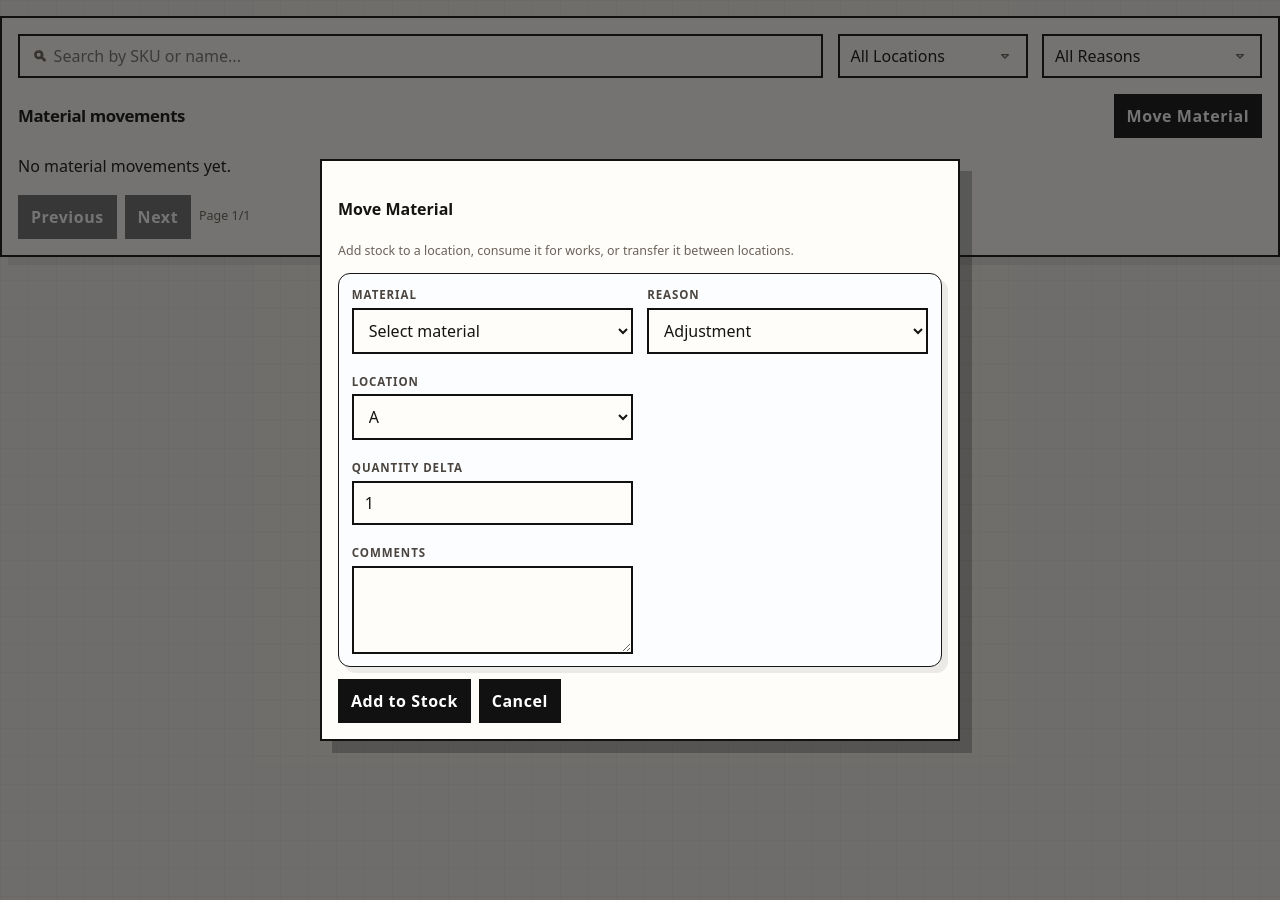
stock movement form errors › shows local validation for missing material without sending a request
Step 1. Select "Adjustment" in the dropdown labelled "Reason" → (788, 331), box [647,308,928,354]
Step 2. Select "Select material" in the dropdown labelled "Material" → (492, 331), box [352,308,633,354]
Step 3. Click the button "Add to Stock" → click(404, 701), box [338,679,471,723]
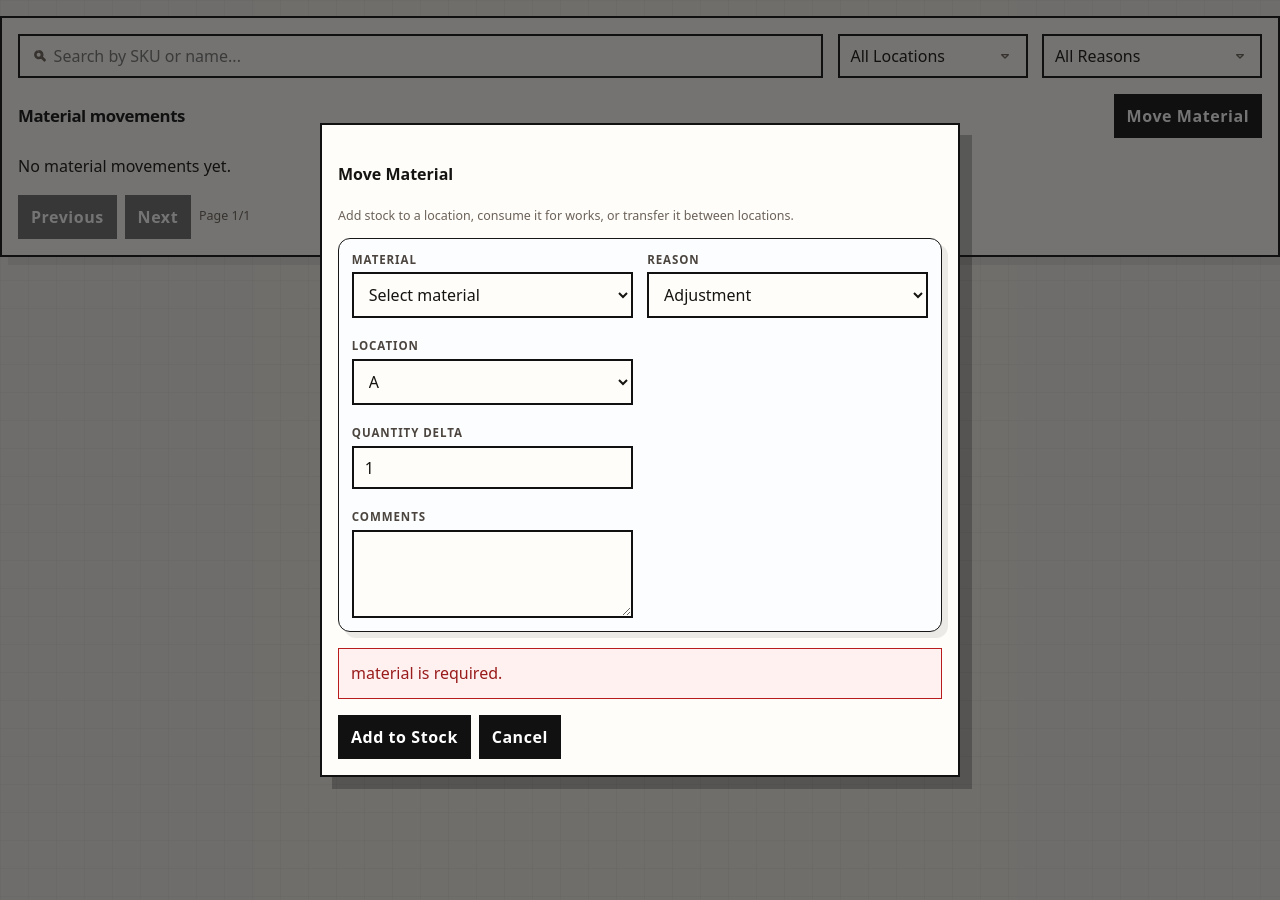
Check: the message reads "material is required.", box [351,662,502,684]
